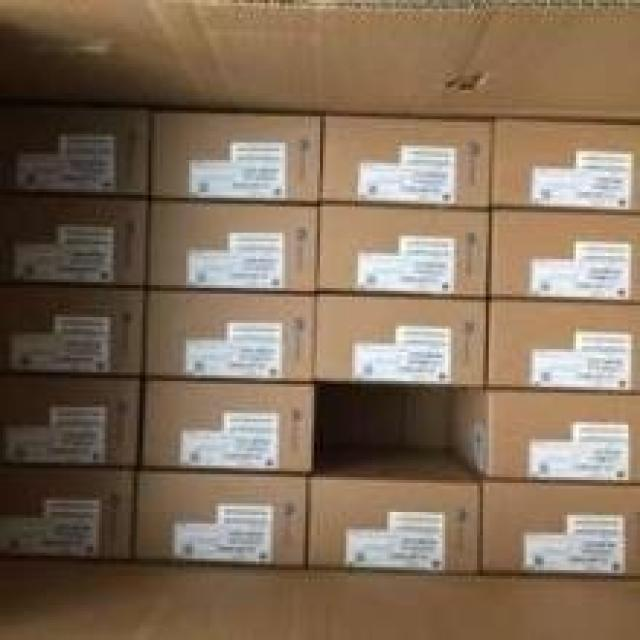box: (305, 448, 480, 573), (451, 387, 640, 486), (140, 375, 314, 471), (134, 471, 305, 567), (314, 294, 486, 387), (317, 204, 489, 297), (143, 288, 314, 381), (320, 113, 489, 207), (480, 480, 640, 579), (148, 111, 323, 201), (148, 201, 317, 291), (489, 116, 640, 212), (489, 300, 640, 396), (489, 209, 640, 303), (0, 105, 148, 198), (0, 372, 140, 468), (0, 195, 145, 285), (0, 285, 145, 375), (0, 465, 137, 559)
